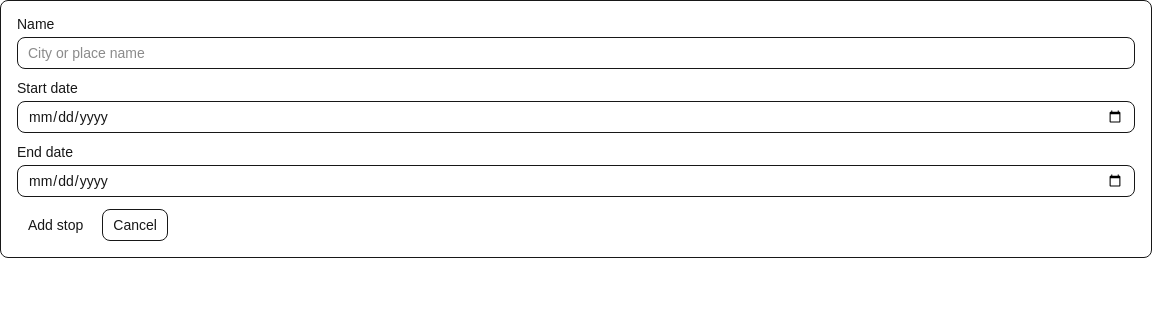
AddStopFormView — name validation › shows name required error when submitted without a name
The width and height of the screenshot is (1152, 327).
Click the button "Add stop" at coordinates (56, 225), box [17,209,94,241]
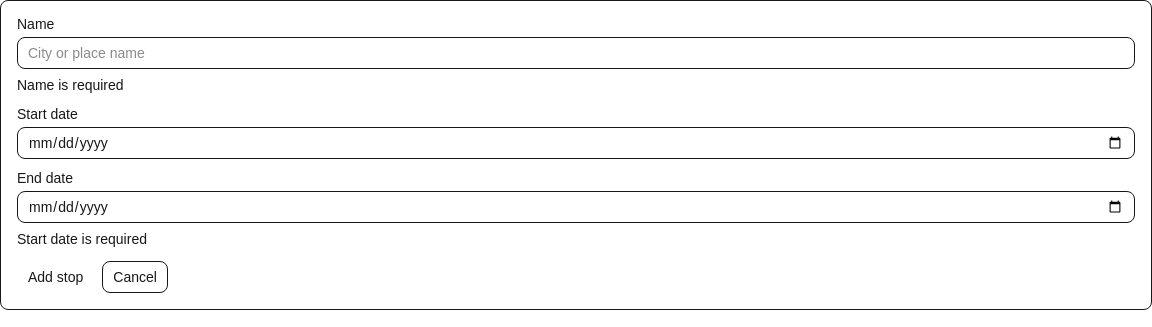
Expected: the text "Name is required" is shown, [17,77,124,93]
